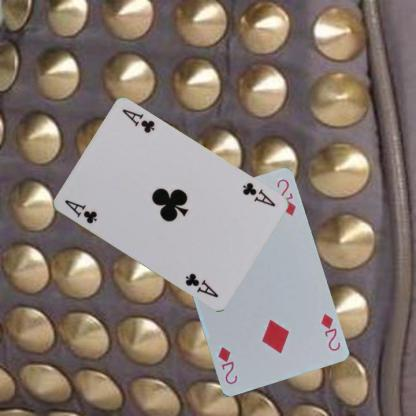2d: (317, 311, 342, 352)
Ac: (239, 180, 276, 209), (61, 197, 98, 225)
